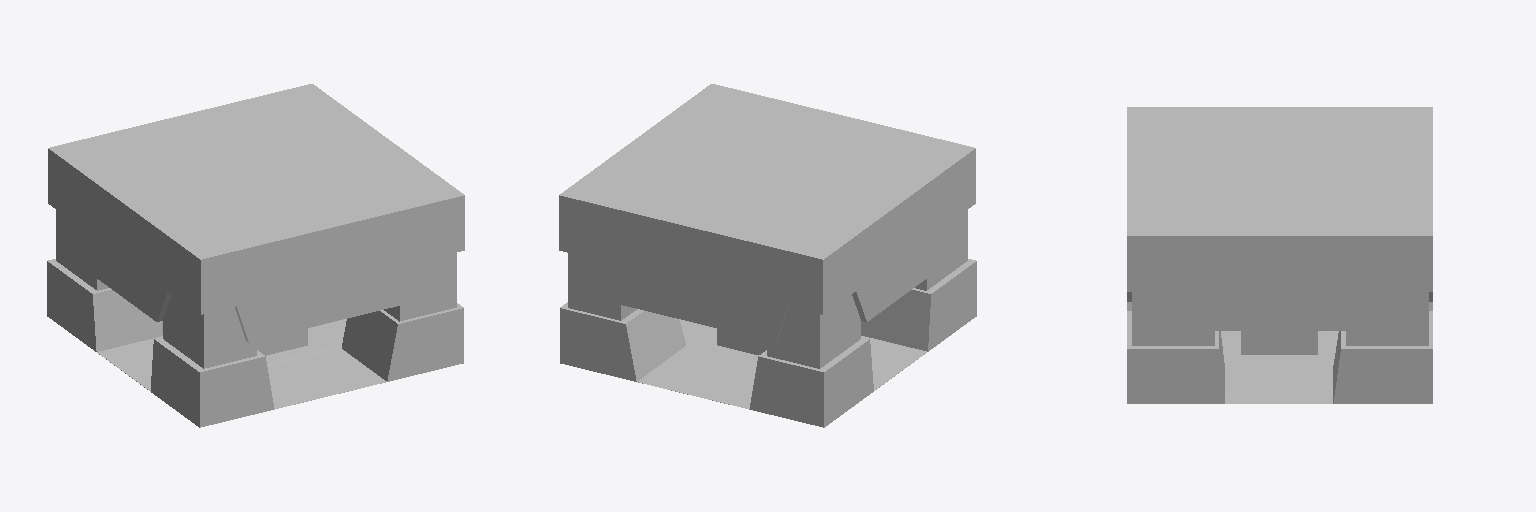
Rendered from warehouse.obj.
3 views of the same model, side by side, from view 1: azimuth 30°, elevation 25°; view 2: azimuth 150°, elevation 25°; view 3: azimuth 270°, elevation 25° (orthographic).
Parts seen in each view (by area): view 1: Cube_Cube.003; view 2: Cube_Cube.003; view 3: Cube_Cube.003.
Boxes of the visible parts, box(x1,y1,x2,y2) form: Cube_Cube.003: box(47, 84, 464, 427); Cube_Cube.003: box(559, 84, 976, 427); Cube_Cube.003: box(1127, 107, 1432, 403).
Size of the model in its own units: 1 by 0.6089 by 1.